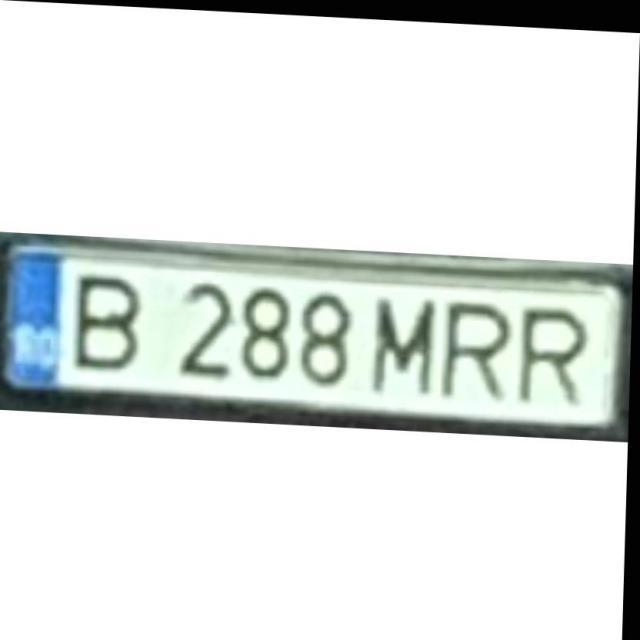license-plates: (0, 234, 633, 440)
